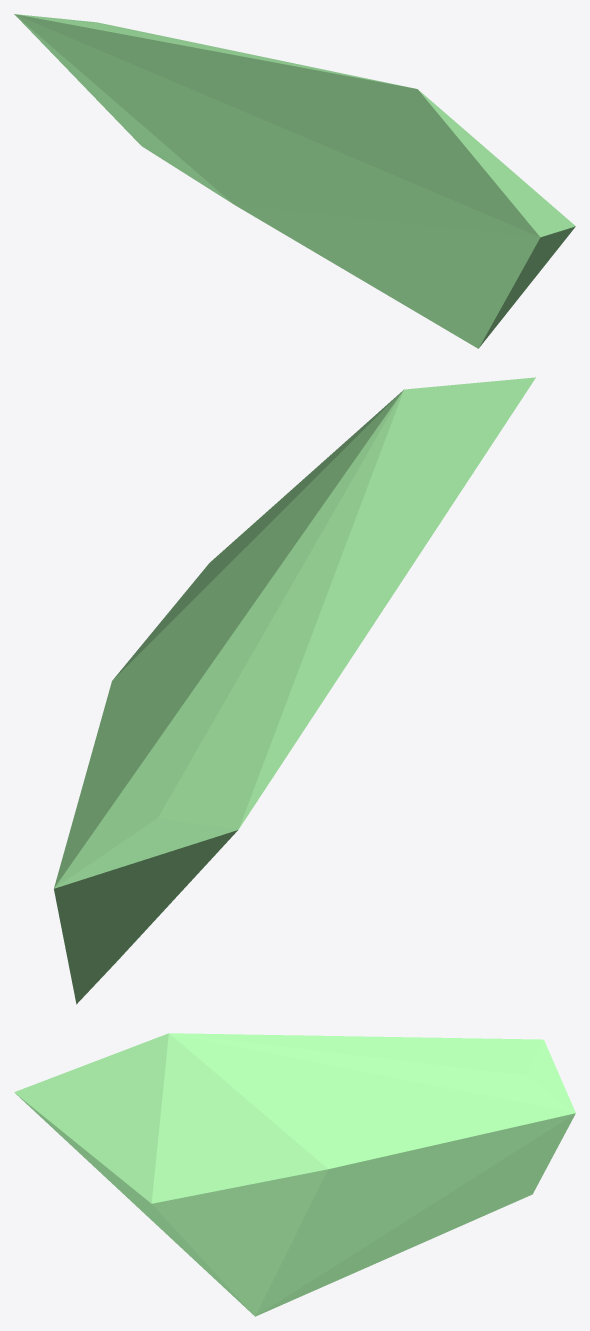
File: exported_panda_link6_resp_coll_6.dae
The picture shows the model from 3 angles, top to bottom: view 1: azimuth 30°, elevation 25°; view 2: azimuth 150°, elevation 25°; view 3: azimuth 270°, elevation 25°; orthographic projection. The views are drawn at different scales.
Visible parts, largest first — view 1: node; view 2: node; view 3: node.
Boxes of the visible parts, x1,y1,x2,y2 form: node: [14, 14, 575, 348]; node: [54, 377, 535, 1004]; node: [14, 1033, 575, 1316].
Bounding box in the file's own units: 0.0332 × 0.0363 × 0.0768.
